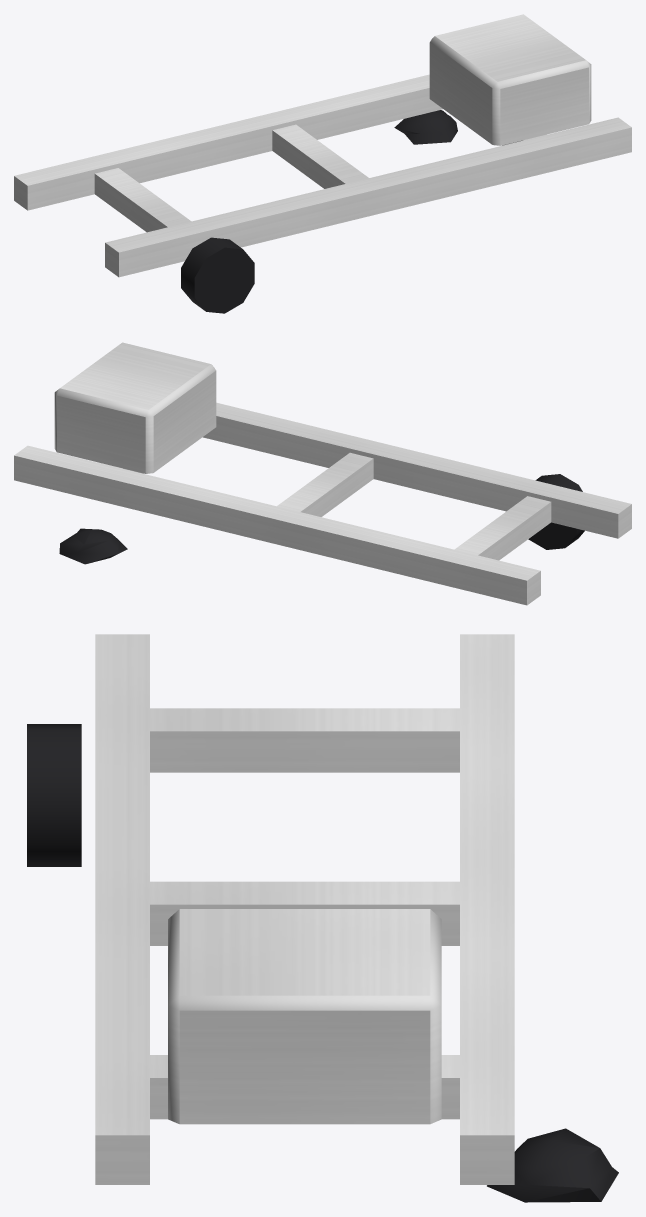
The model's file is wreck_car_frame.obj.
3 views of the same model, one above another, from view 1: azimuth 30°, elevation 25°; view 2: azimuth 150°, elevation 25°; view 3: azimuth 270°, elevation 25° (orthographic). The views are drawn at different scales.
Visible parts, largest first — view 1: retained_0, engine_block, retained_5, retained_30, retained_15, retained_10, retained_52; view 2: retained_5, engine_block, retained_0, retained_15, retained_10, retained_52, retained_30, retained_20; view 3: engine_block, retained_0, retained_5, retained_10, retained_15, retained_30, retained_52, retained_20.
Boxes of the visible parts, left/top/right/bottom form: retained_0: left=105, top=117, right=631, bottom=277; engine_block: left=429, top=14, right=591, bottom=145; retained_5: left=14, top=74, right=443, bottom=210; retained_30: left=181, top=237, right=254, bottom=313; retained_15: left=272, top=124, right=387, bottom=216; retained_10: left=94, top=168, right=208, bottom=255; retained_52: left=394, top=110, right=457, bottom=144; retained_5: left=14, top=445, right=540, bottom=605; engine_block: left=54, top=342, right=216, bottom=473; retained_0: left=203, top=402, right=631, bottom=538; retained_15: left=258, top=452, right=373, bottom=544; retained_10: left=436, top=496, right=551, bottom=584; retained_52: left=59, top=528, right=127, bottom=564; retained_30: left=528, top=474, right=584, bottom=549; retained_20: left=81, top=463, right=143, bottom=501; engine_block: left=168, top=909, right=441, bottom=1124; retained_0: left=95, top=634, right=149, bottom=1184; retained_5: left=460, top=634, right=514, bottom=1184; retained_10: left=150, top=708, right=459, bottom=772; retained_15: left=150, top=881, right=459, bottom=945; retained_30: left=27, top=724, right=81, bottom=866; retained_52: left=487, top=1128, right=618, bottom=1202; retained_20: left=150, top=1055, right=459, bottom=1119.
Size of the model in its own units: 2.6 by 0.62 by 1.3.
